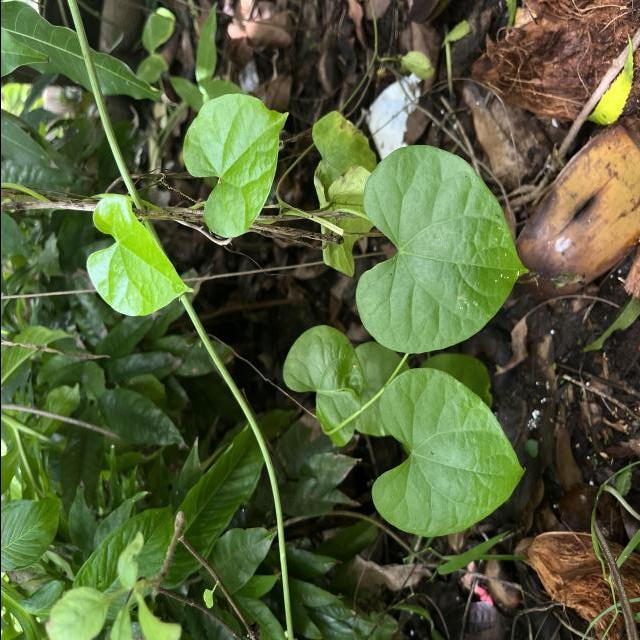Tinospora cordifolia: (351, 142, 532, 356), (366, 363, 527, 540), (180, 90, 293, 241), (82, 192, 198, 318)
